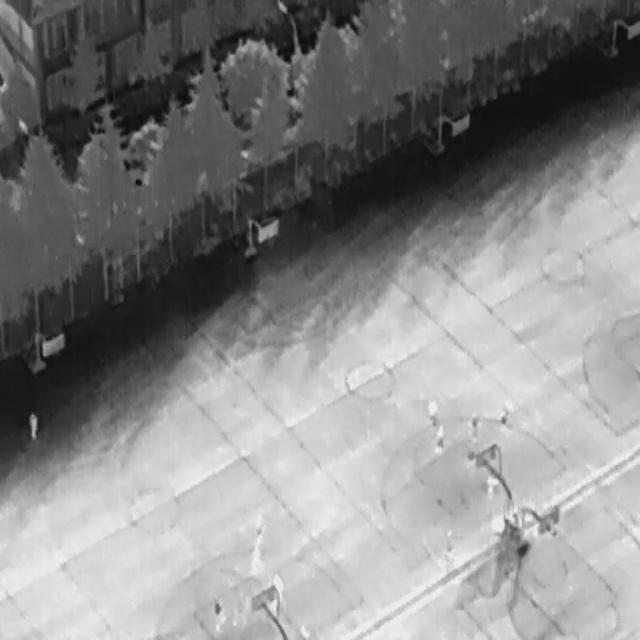Person: (481, 470, 500, 498), (272, 570, 285, 605), (432, 422, 445, 452), (497, 401, 512, 425), (210, 598, 222, 628), (426, 396, 438, 425), (27, 409, 37, 441), (462, 447, 477, 468), (251, 508, 263, 534), (468, 412, 480, 436)
